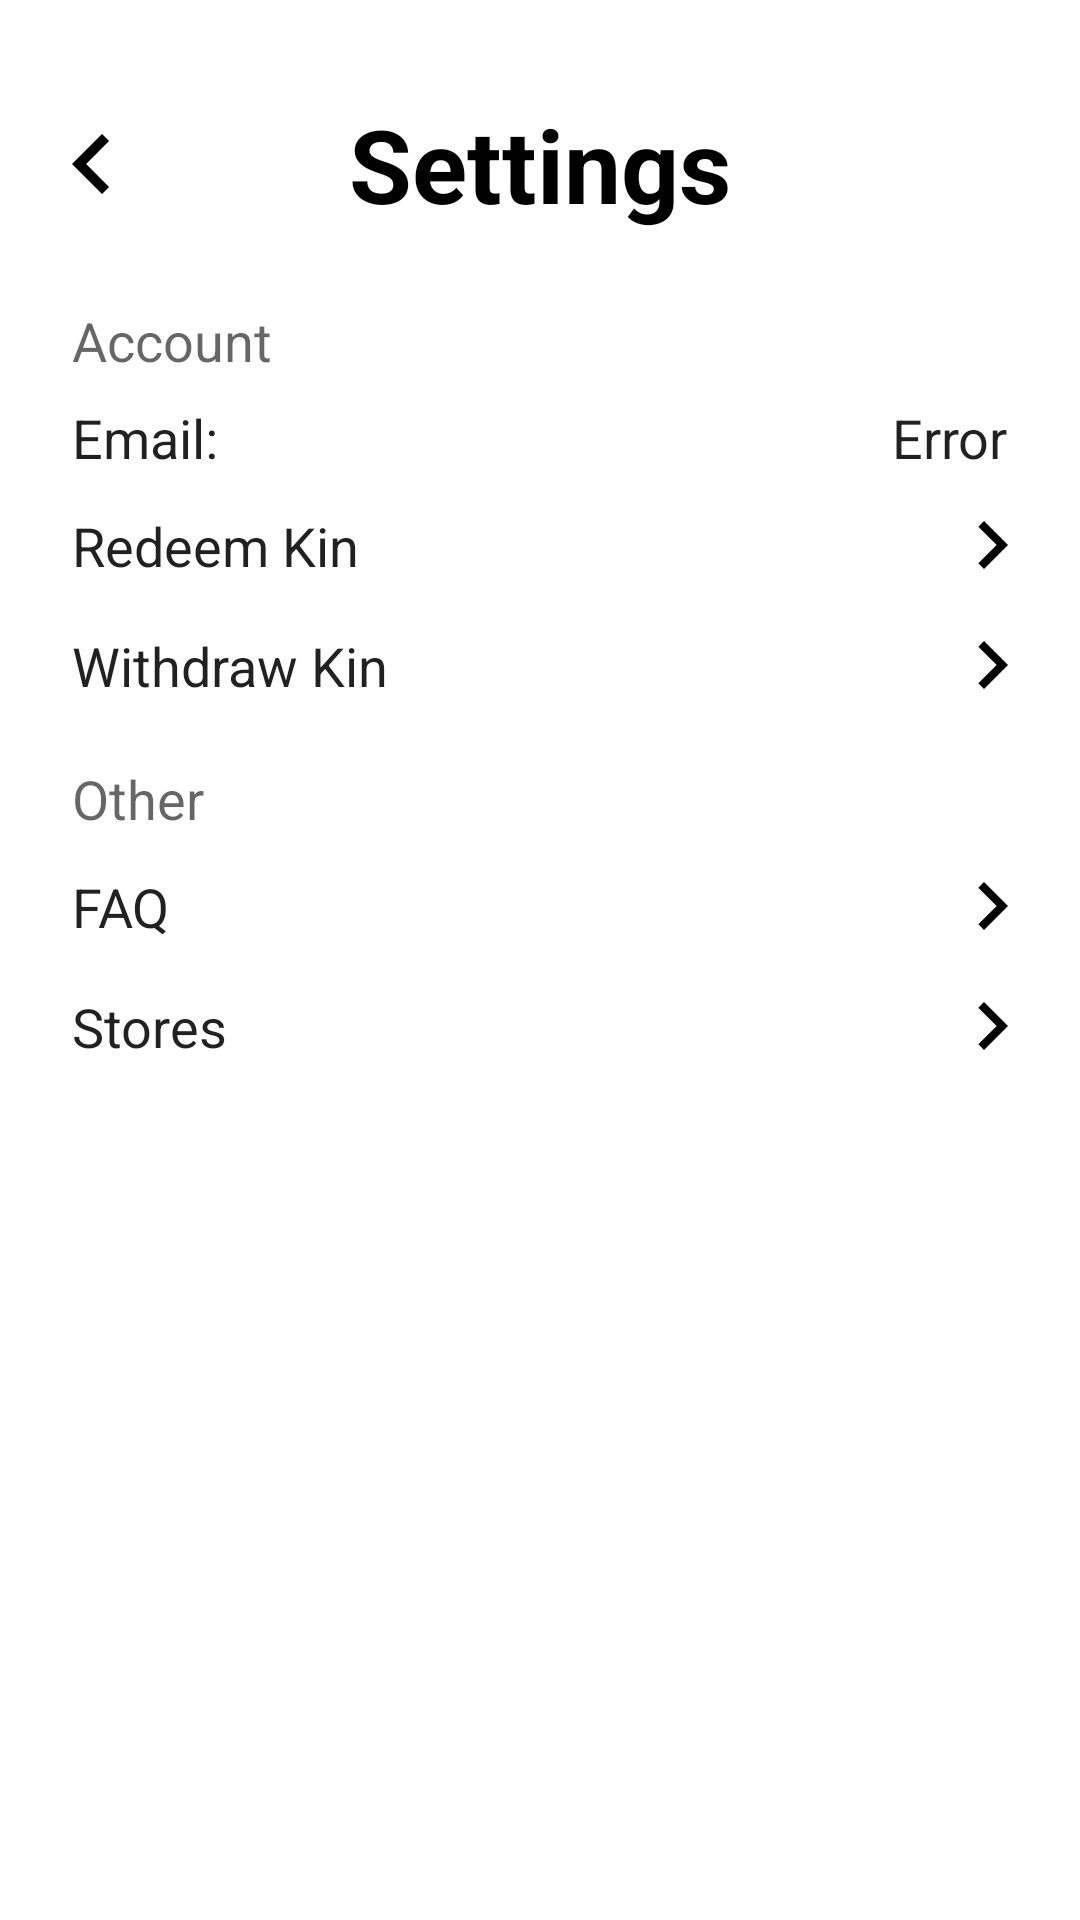

Icon click points for this 1080 x 1920 phone screenshot, format point (x, y):
chevron left: point (90, 164)
keyboard arrow right: point (993, 545), point (993, 665), point (993, 906), point (993, 1026)
